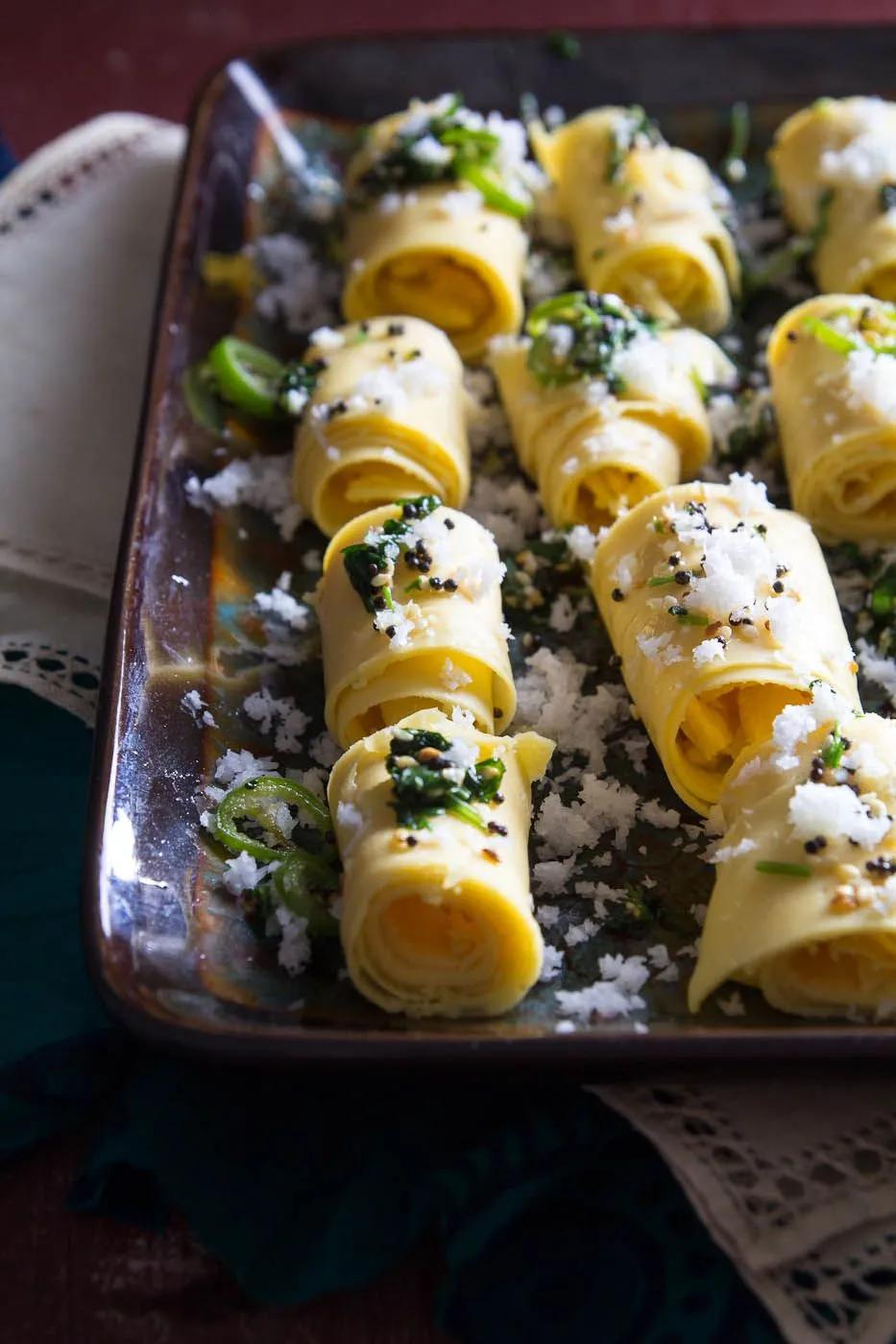khandvi: (288, 93, 896, 1024)
